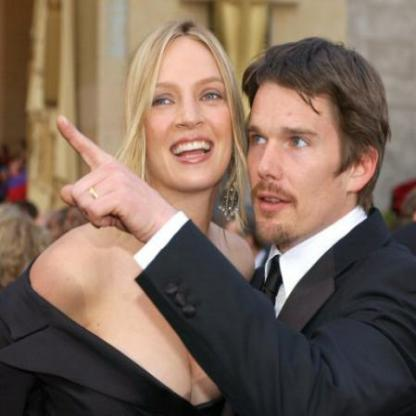face: (238, 43, 354, 256), (132, 20, 242, 196)
